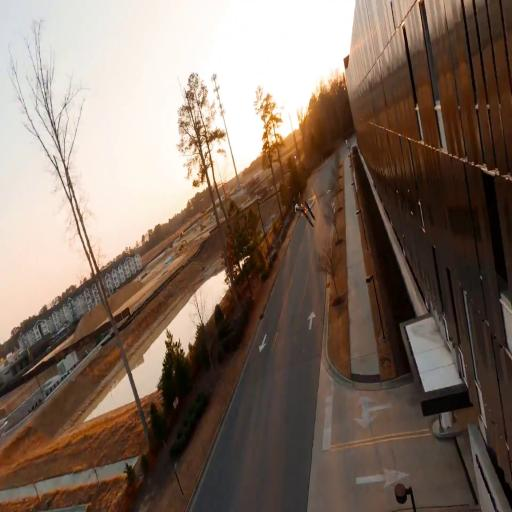uav: (294, 191, 320, 232)
